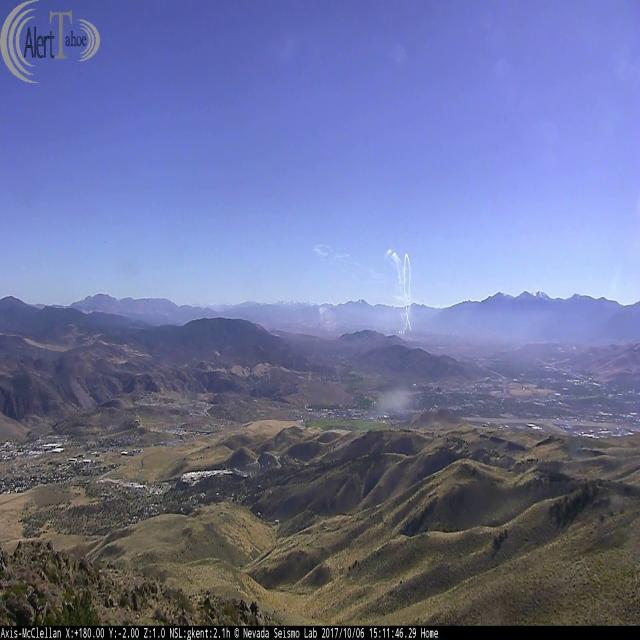smoke: (310, 244, 414, 336)
